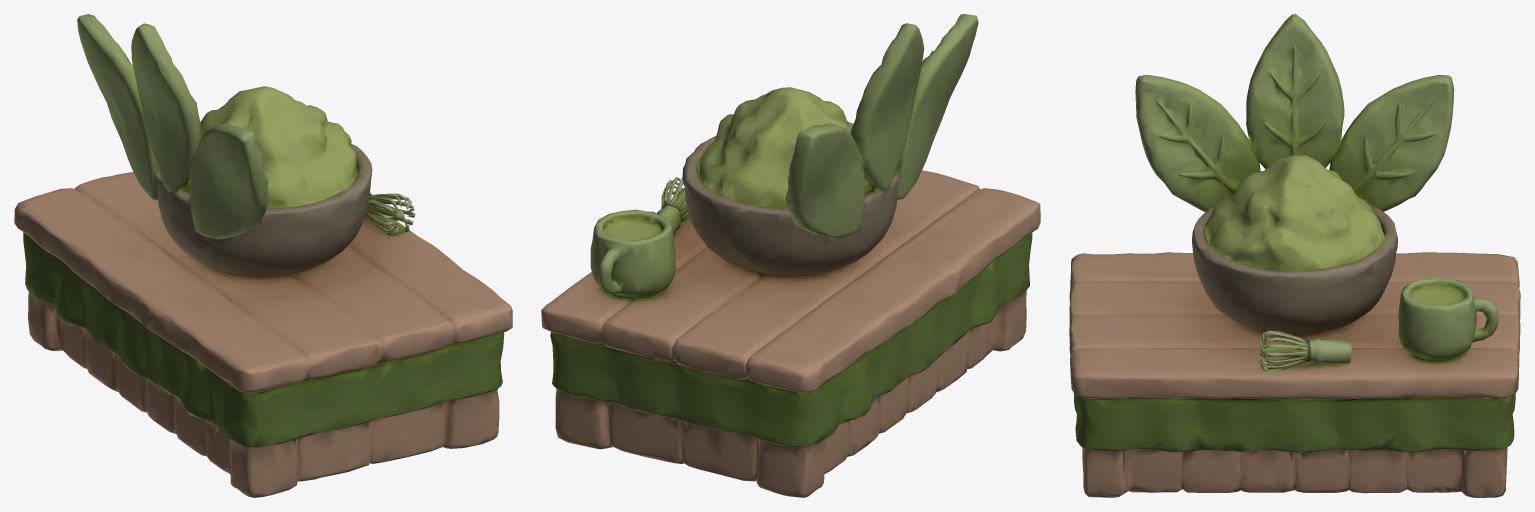
Rendered from JP_사물_s2_station_topping_t1_v2.glb.
3 views of the same model, side by side, from view 1: azimuth 30°, elevation 25°; view 2: azimuth 150°, elevation 25°; view 3: azimuth 270°, elevation 25° (orthographic). The views are drawn at different scales.
Visible parts, largest first — view 1: tripo_node_f7e02b7c-ba31-4888-9d47-350e5f978f4d; view 2: tripo_node_f7e02b7c-ba31-4888-9d47-350e5f978f4d; view 3: tripo_node_f7e02b7c-ba31-4888-9d47-350e5f978f4d.
Part boxes in pixels (x1,y1,x2,y2): tripo_node_f7e02b7c-ba31-4888-9d47-350e5f978f4d: (14,14,512,497); tripo_node_f7e02b7c-ba31-4888-9d47-350e5f978f4d: (541,14,1040,497); tripo_node_f7e02b7c-ba31-4888-9d47-350e5f978f4d: (1069,14,1520,497).
Bounding box in the file's own units: 0.6775 × 0.909 × 1.
1 material, 1 textured.
